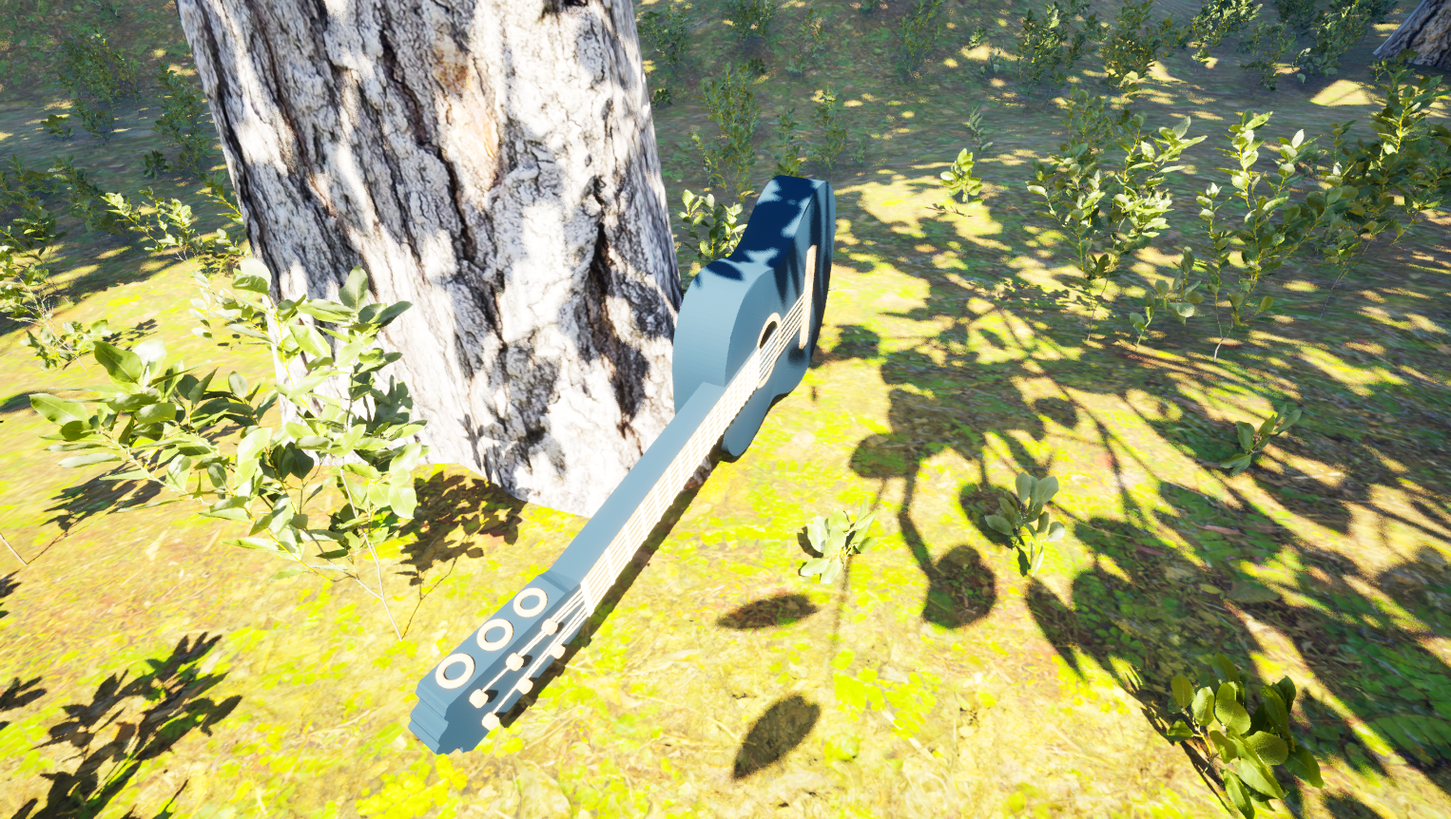Guitar: (278, 156, 848, 819)
